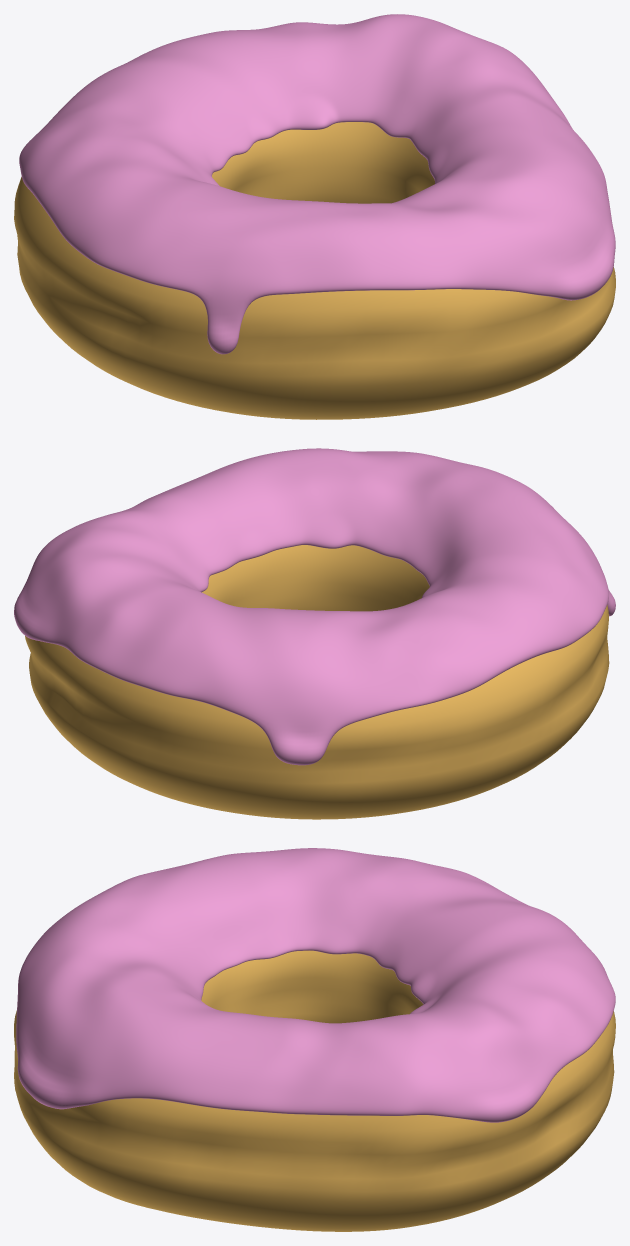
Rendered from donut.glb.
3 views of the same model, one above another, from view 1: azimuth 30°, elevation 25°; view 2: azimuth 150°, elevation 25°; view 3: azimuth 270°, elevation 25° (orthographic). The views are drawn at different scales.
Visible parts, largest first — view 1: Icing, Donut; view 2: Icing, Donut; view 3: Icing, Donut.
Boxes of the visible parts, <box> form: Icing: <box>19,14,615,354</box>; Donut: <box>14,122,615,419</box>; Icing: <box>14,448,615,765</box>; Donut: <box>25,545,609,819</box>; Icing: <box>16,848,615,1122</box>; Donut: <box>14,950,615,1231</box>.
Size of the model in its own units: 0.1397 by 0.0531 by 0.1443.
